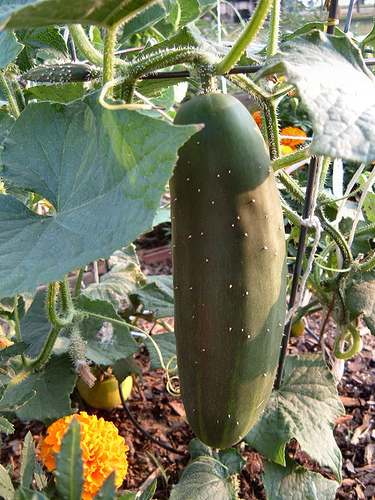cucumber: (167, 91, 286, 448)
